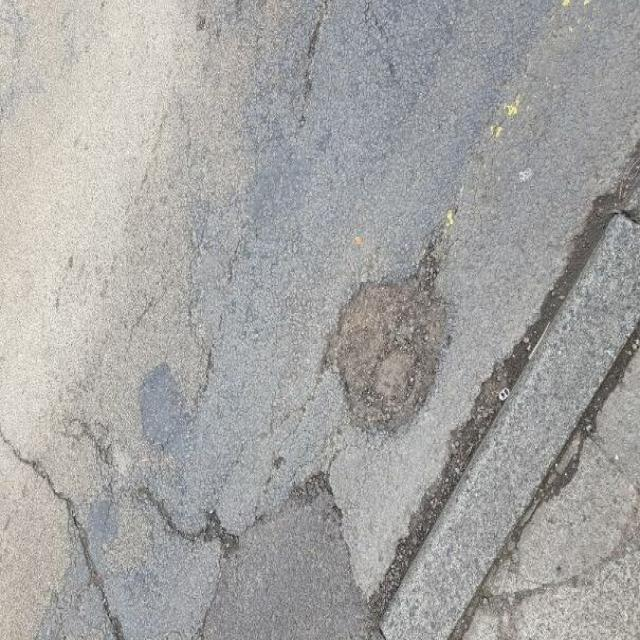pothole: (311, 220, 454, 438)
